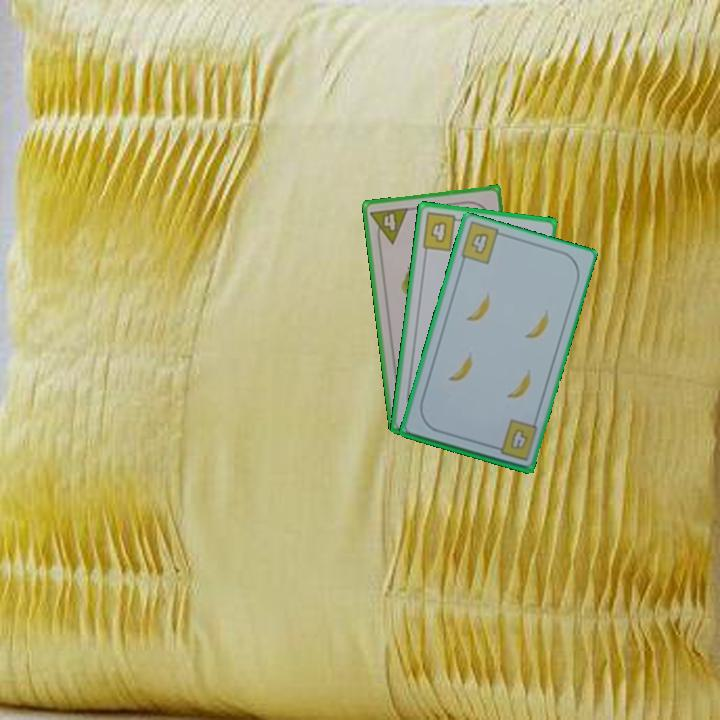4b: (489, 416, 540, 463), (418, 209, 466, 254), (467, 229, 491, 257)
4p: (367, 204, 411, 248)
